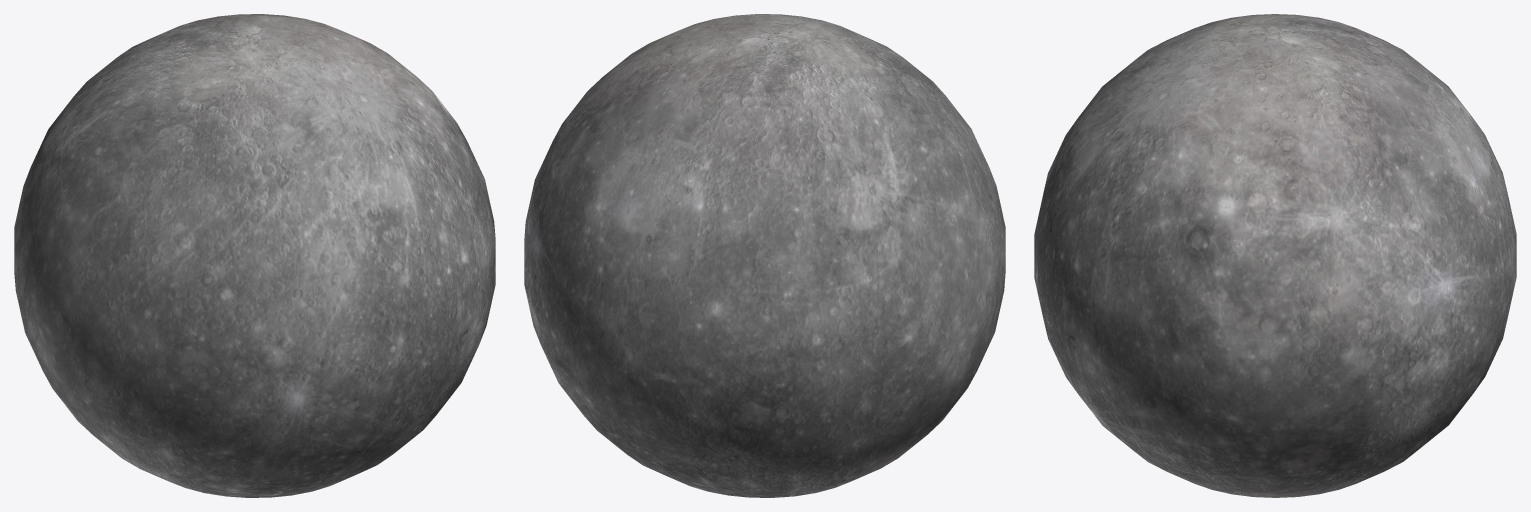
File: mercury.glb
The picture shows the model from 3 angles, left to right: view 1: azimuth 30°, elevation 25°; view 2: azimuth 150°, elevation 25°; view 3: azimuth 270°, elevation 25°; orthographic projection.
Visible parts, largest first — view 1: Mercury_low; view 2: Mercury_low; view 3: Mercury_low.
Part boxes in pixels (<box>): Mercury_low: <box>14,14,495,497</box>; Mercury_low: <box>524,14,1005,497</box>; Mercury_low: <box>1034,14,1516,497</box>.
Bounding box in the file's own units: 0.6336 × 0.6366 × 0.6336.
1 material, 1 textured.
